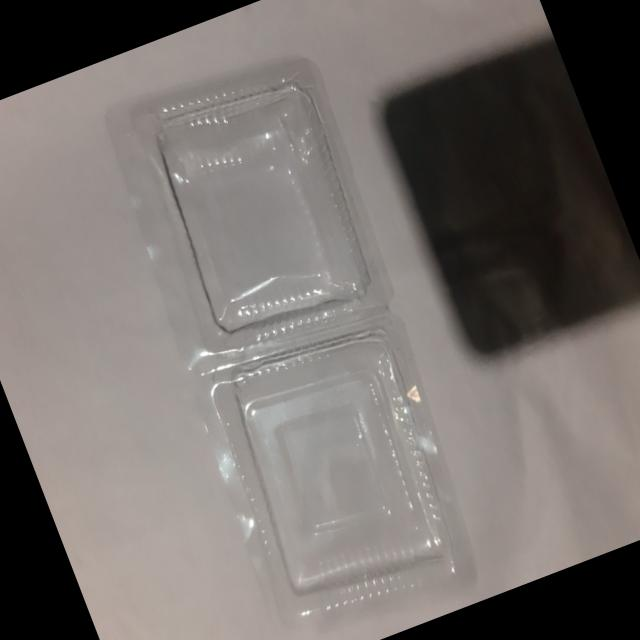KemasanPlastik: (79, 30, 509, 640)
